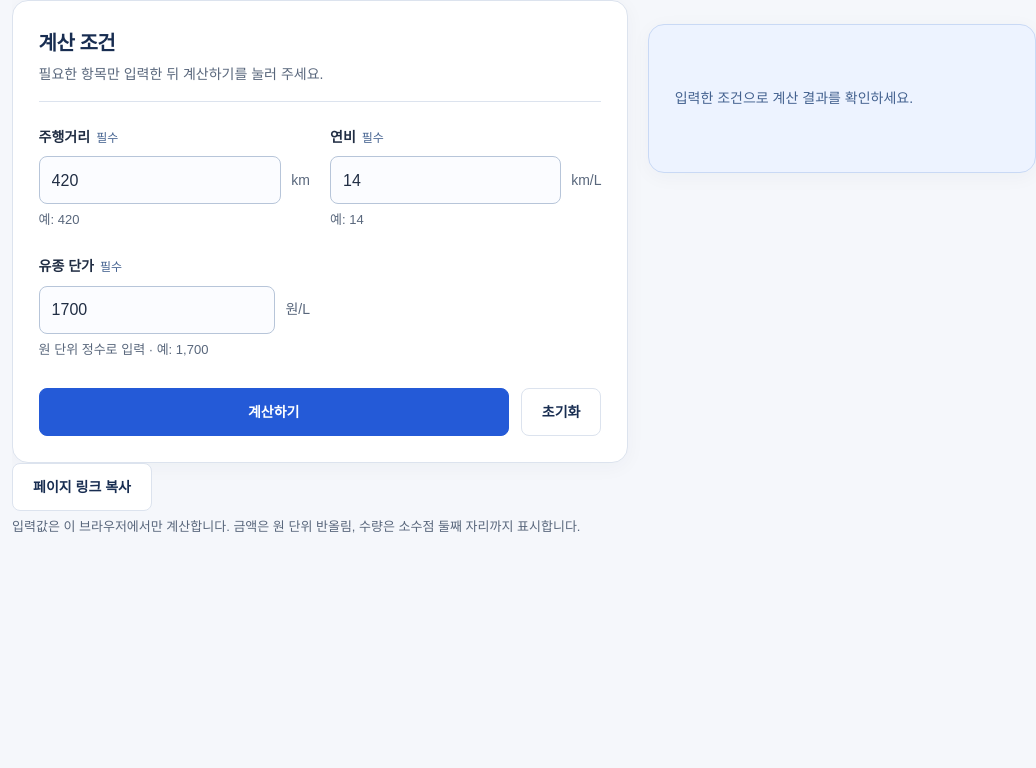
Scenario: keeps tiny valid inputs compact in the conditions instead of expanding their exponent
Replace the text in the field labelled "주행거리" with "1e-1000000001" at (160, 180), box [39, 156, 281, 204]
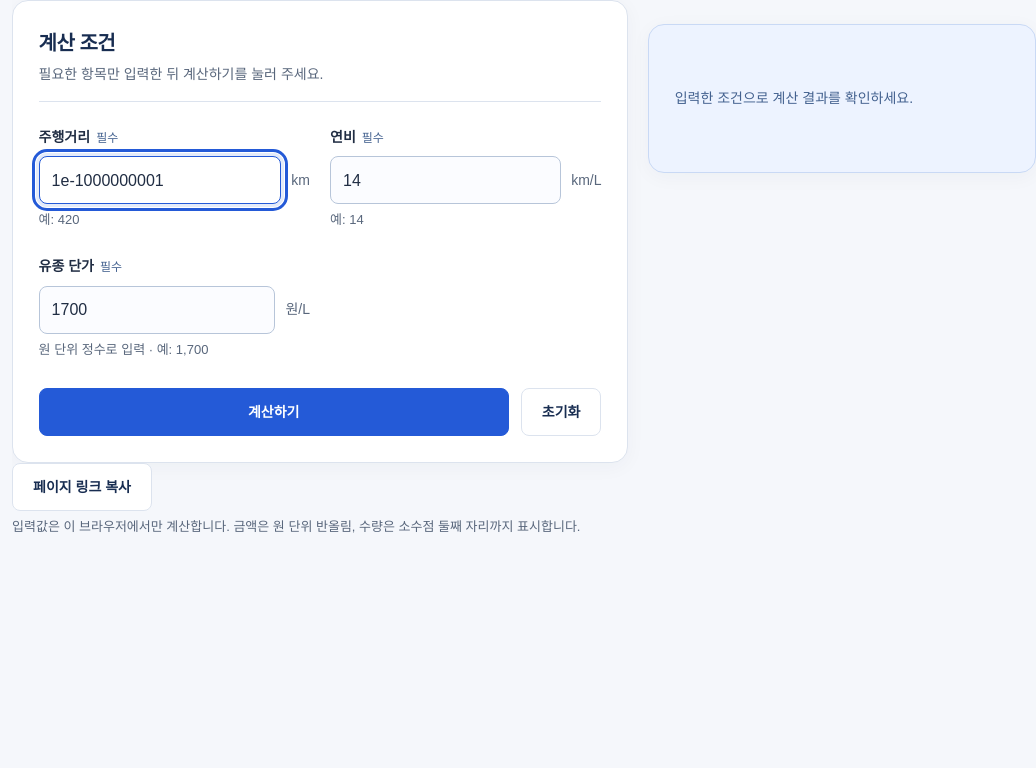
Click the button "계산하기" at (274, 412), box [39, 388, 509, 436]
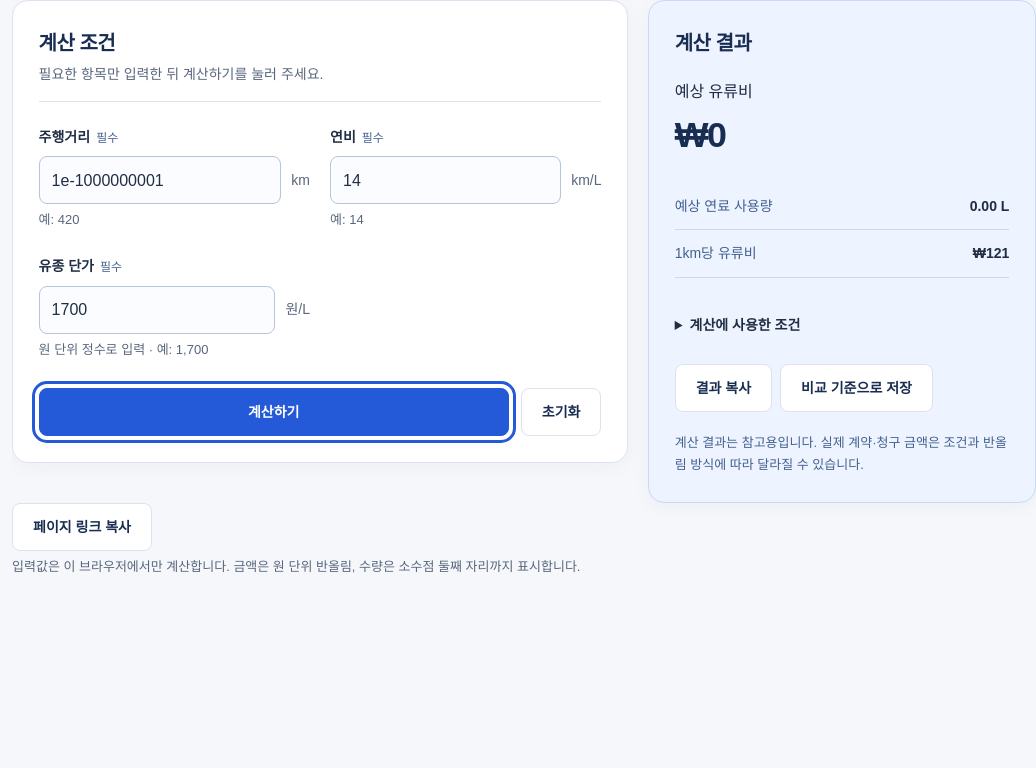
Expected: the heading "계산 결과" is shown, [675, 32, 751, 54]
